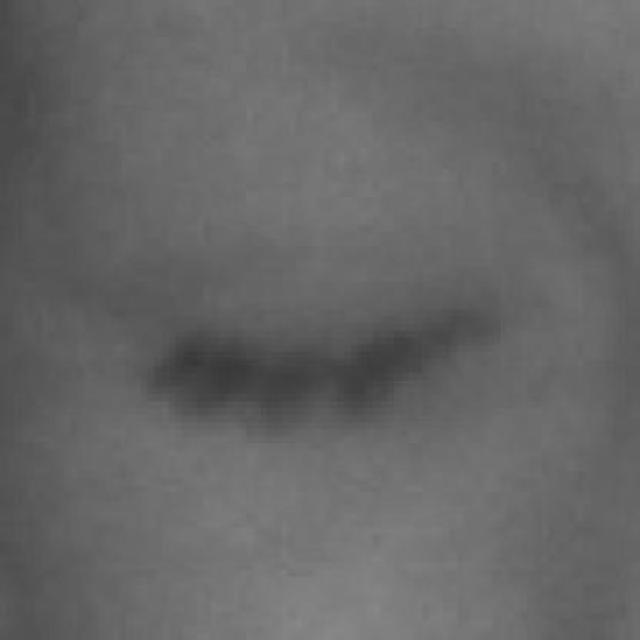drowsy: (158, 191, 474, 538)
